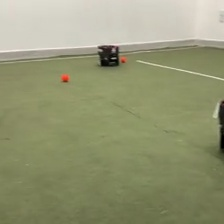ball: (61, 74, 69, 82), (120, 55, 127, 63)
robot: (96, 43, 121, 68)
